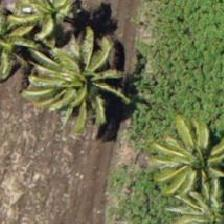coconut_tree: (38, 35, 128, 125), (153, 119, 223, 209), (0, 0, 88, 60), (163, 175, 223, 223)
